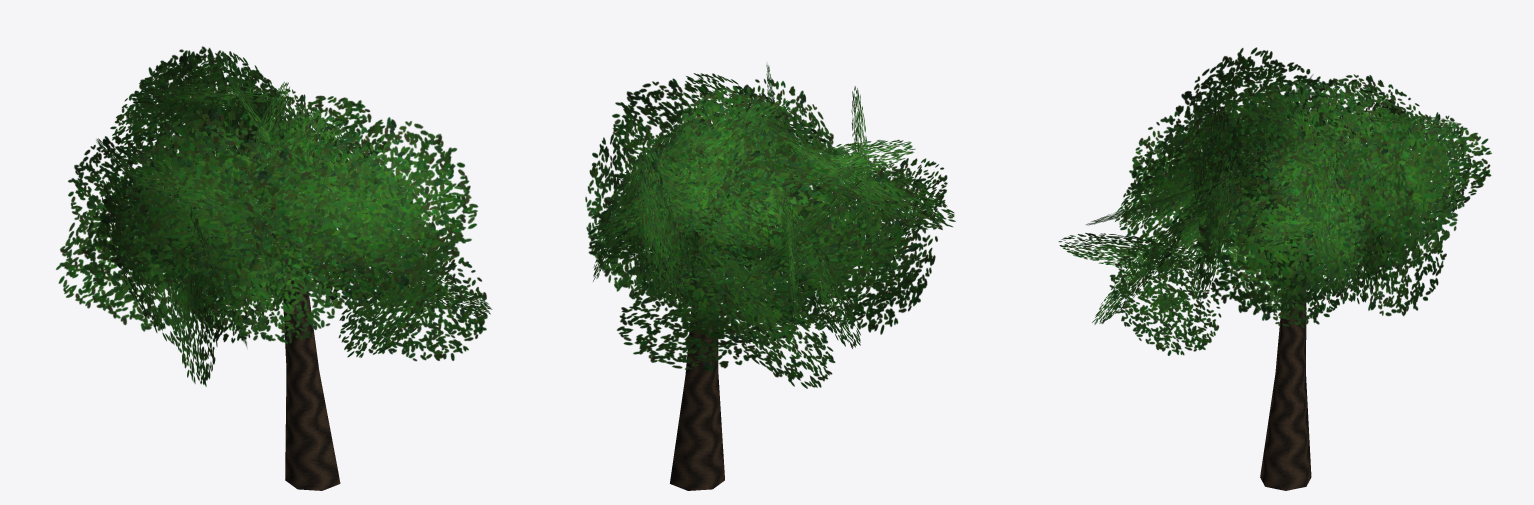
Rendered from round_red.glb.
3 renders of one model, left to right at view 1: azimuth 30°, elevation 25°; view 2: azimuth 150°, elevation 25°; view 3: azimuth 270°, elevation 25°, orthographic. The views are drawn at different scales.
Visible parts, largest first — view 1: round_red; view 2: round_red; view 3: round_red.
Boxes of the visible parts, bbox=[...] form: round_red: bbox=[56, 46, 492, 490]; round_red: bbox=[585, 62, 955, 490]; round_red: bbox=[1058, 47, 1491, 490].
Size of the model in its own units: 1.28 by 1.35 by 1.5.
Materials: 2 (2 with a texture image).
